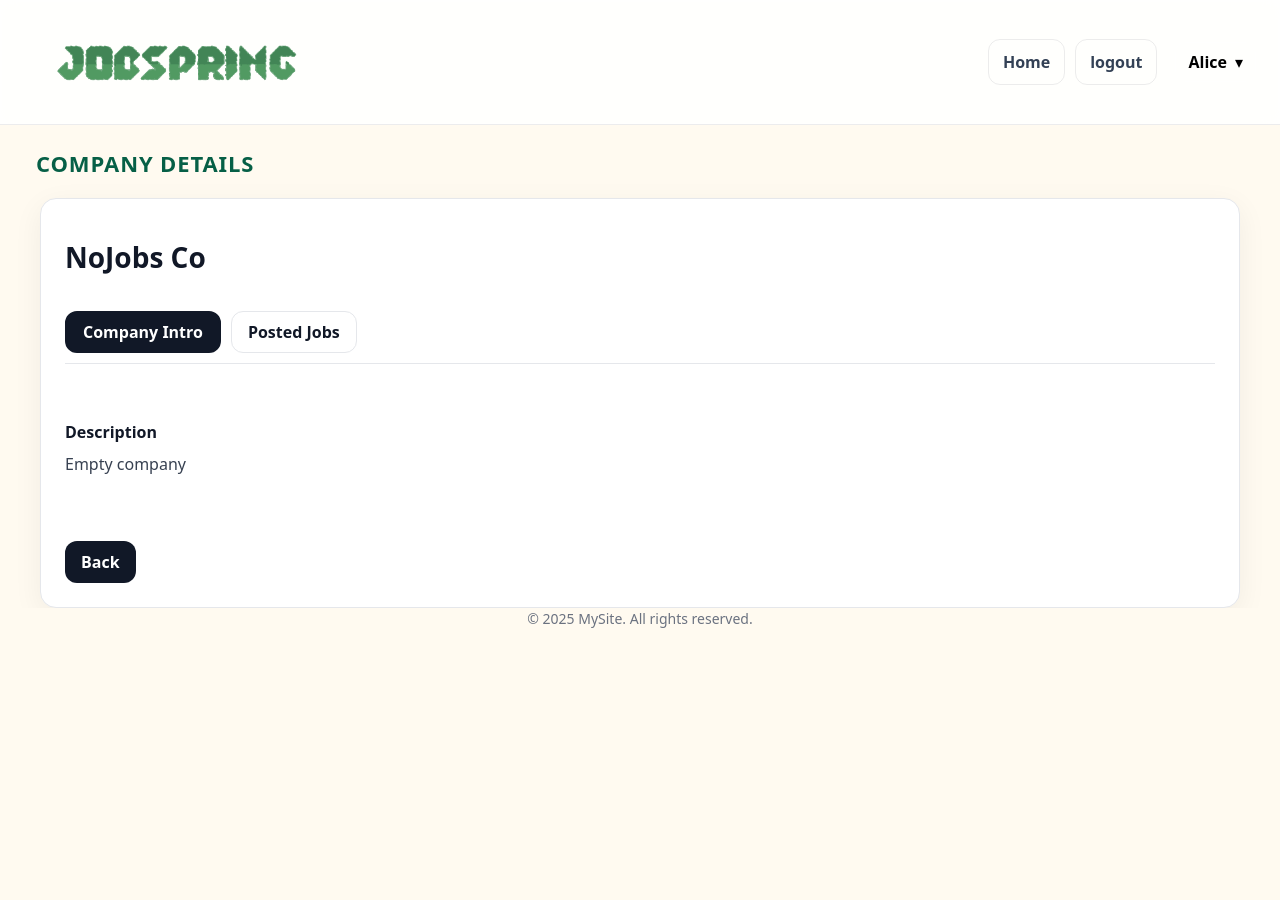
CompanyDetail › shows empty jobs message when no jobs
Expected: the heading "NoJobs Co" is shown, [65, 242, 206, 273]
Click the button "Posted Jobs". click: (294,332)
box: [231, 311, 357, 353]
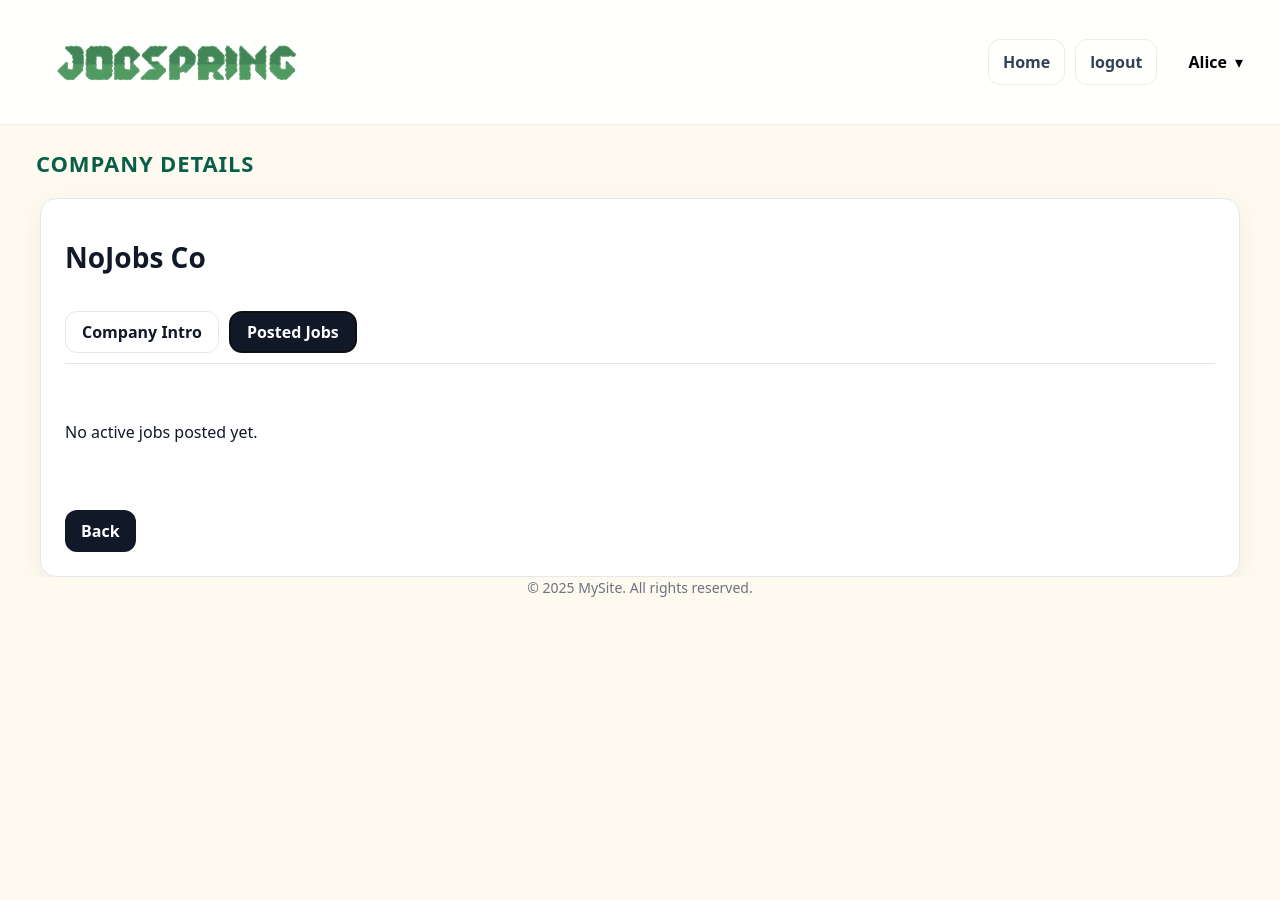
Expected: the text "No active jobs posted yet." is shown, [65, 421, 258, 443]
